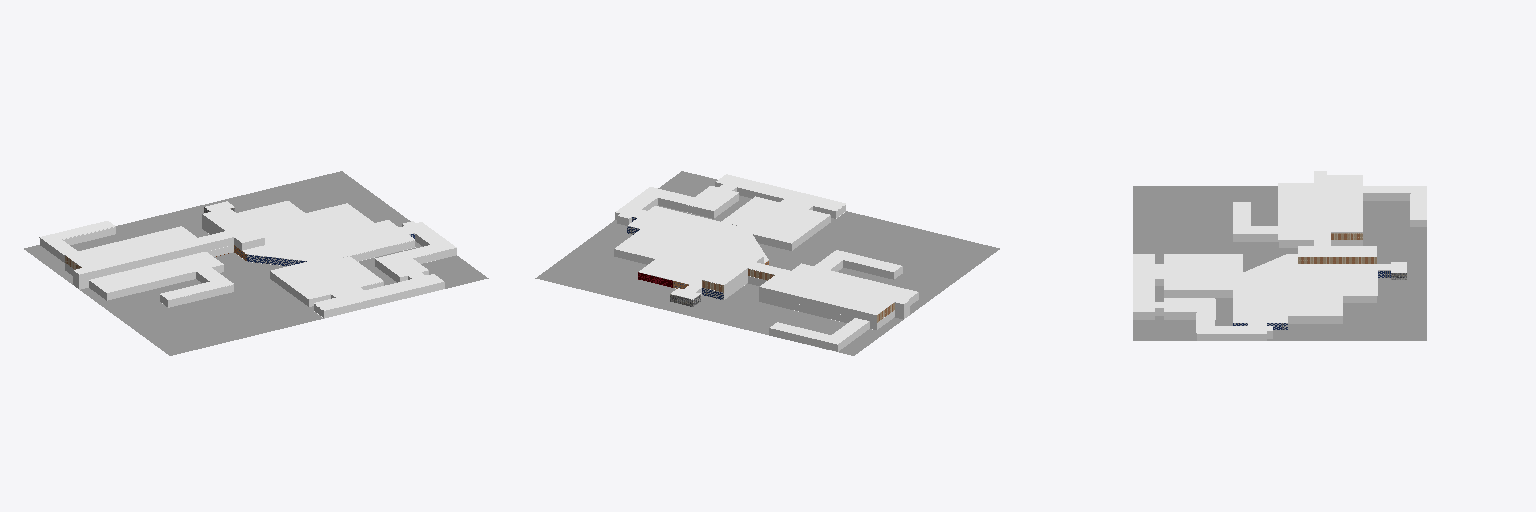
3 views of the same model, side by side, from view 1: azimuth 30°, elevation 25°; view 2: azimuth 150°, elevation 25°; view 3: azimuth 270°, elevation 25° (orthographic).
Parts seen in each view (by area): view 1: ground_1, room_135_668, room_137_670, room_140_673, room_131_664, room_134_667, room_136_669, wall_76_424, wall_50_281, room_132_665, room_129_661, wall_18_100; view 2: ground_1, room_135_668, room_137_670, room_140_673, room_134_667, room_136_669, room_131_664, room_129_661, wall_68_376, room_132_665, wall_19_106; view 3: ground_1, room_135_668, room_137_670, room_140_673, room_134_667, room_131_664, room_136_669, room_129_661, room_132_665, wall_73_406.
Part boxes in pixels (bbox=[...]): ground_1: bbox=[24, 171, 488, 355]; room_135_668: bbox=[243, 203, 414, 264]; room_137_670: bbox=[270, 256, 443, 310]; room_140_673: bbox=[65, 209, 263, 274]; room_131_664: bbox=[89, 252, 223, 292]; room_134_667: bbox=[226, 201, 317, 236]; room_136_669: bbox=[375, 221, 456, 277]; wall_76_424: bbox=[89, 237, 233, 279]; wall_50_281: bbox=[324, 282, 444, 318]; room_132_665: bbox=[160, 268, 233, 300]; room_129_661: bbox=[39, 221, 115, 255]; wall_18_100: bbox=[107, 265, 223, 300]; ground_1: bbox=[535, 171, 999, 355]; room_135_668: bbox=[615, 206, 768, 263]; room_137_670: bbox=[716, 174, 845, 243]; room_140_673: bbox=[702, 251, 909, 315]; room_134_667: bbox=[639, 250, 723, 291]; room_136_669: bbox=[615, 186, 738, 218]; room_131_664: bbox=[792, 263, 918, 299]; room_129_661: bbox=[770, 318, 869, 344]; wall_68_376: bbox=[759, 287, 876, 322]; room_132_665: bbox=[814, 250, 901, 272]; wall_19_106: bbox=[759, 295, 876, 329]; ground_1: bbox=[1133, 186, 1426, 340]; room_135_668: bbox=[1233, 254, 1342, 322]; room_137_670: bbox=[1133, 254, 1242, 312]; room_140_673: bbox=[1298, 171, 1376, 256]; room_134_667: bbox=[1316, 264, 1390, 295]; room_131_664: bbox=[1278, 183, 1313, 239]; room_136_669: bbox=[1164, 298, 1272, 333]; room_129_661: bbox=[1363, 186, 1426, 219]; room_132_665: bbox=[1233, 202, 1277, 233]; wall_73_406: bbox=[1298, 257, 1376, 263].
Bounding box in the file's own units: 11512 × 524 × 9188.
41 materials, 6 textured.